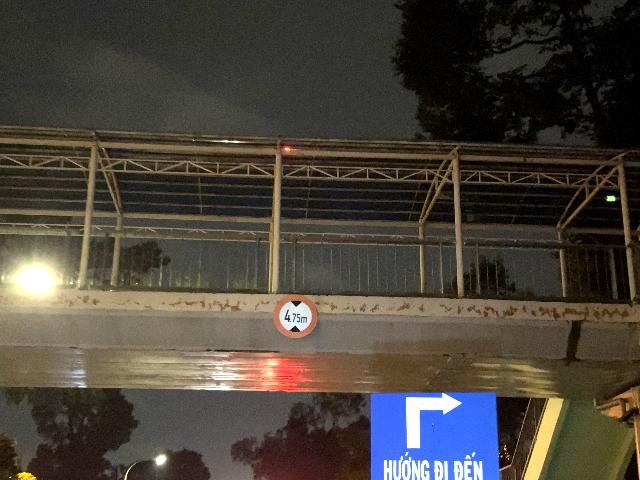han-che-chieu-cao: (273, 293, 318, 338)
